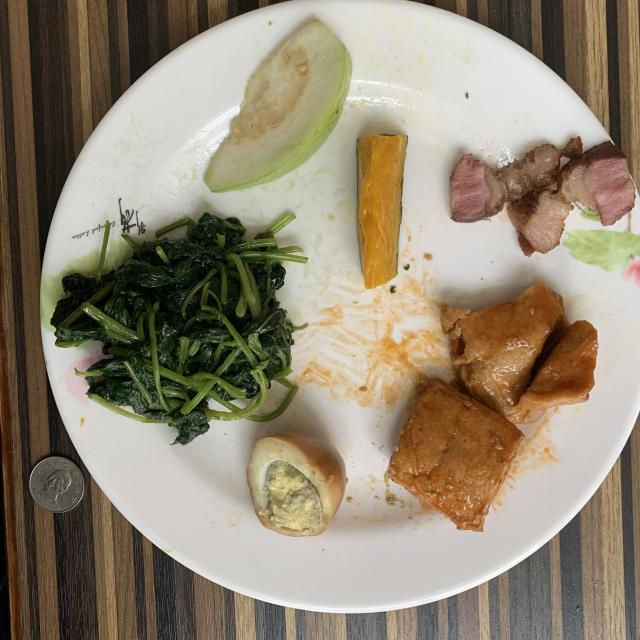coin: (30, 456, 84, 512)
creamy tofu: (388, 282, 598, 531)
grilled pork: (450, 138, 635, 255)
guava -sliced-: (204, 19, 351, 192)
pumpkin: (358, 135, 408, 289)
soy egg: (246, 432, 348, 536)
sweet potato leaves: (51, 212, 306, 444)
